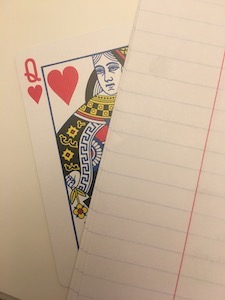QueenOfHearts: (11, 25, 143, 288)
